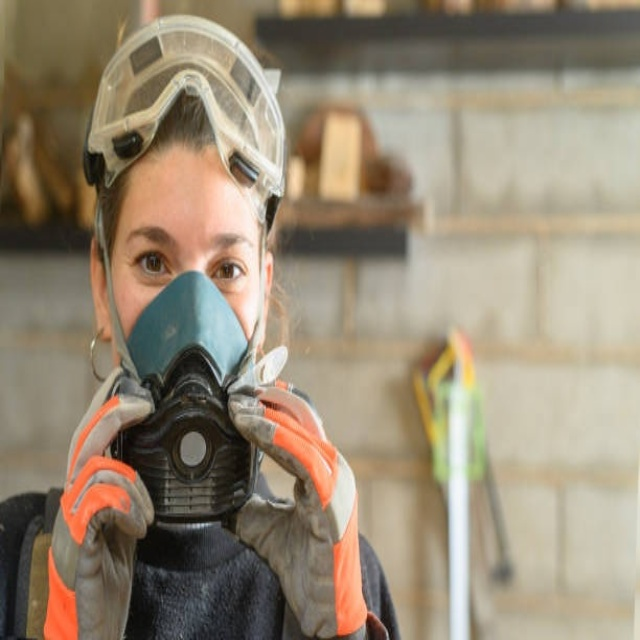Guantes: (228, 376, 364, 637), (47, 368, 160, 640)
Mascara: (108, 244, 259, 527)
Sin_gafas: (114, 212, 261, 297)
